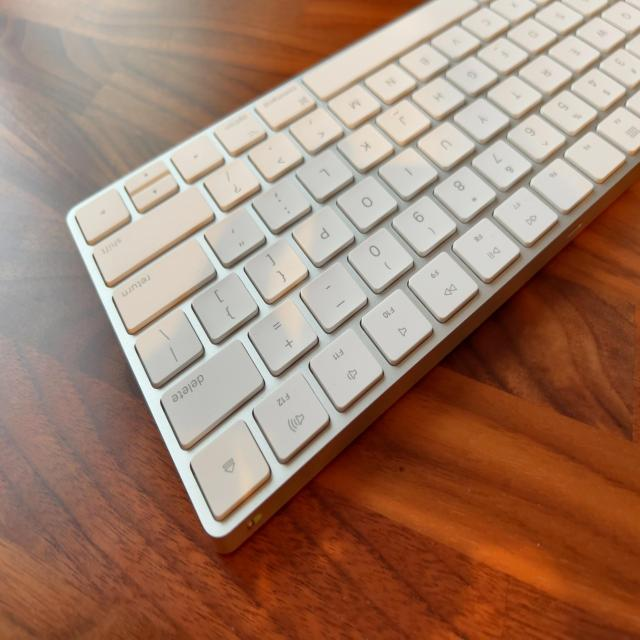keyboard: (66, 0, 640, 554)
